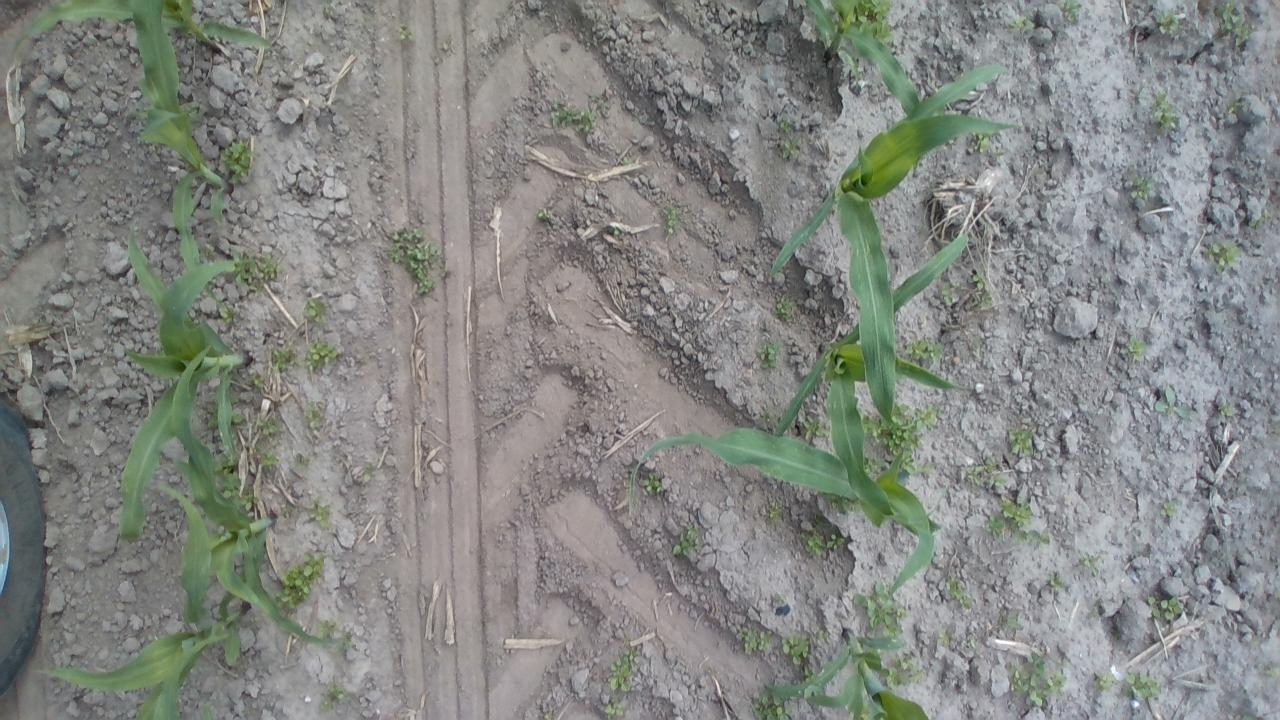Maize: (771, 69, 1014, 433), (774, 233, 970, 521), (629, 423, 942, 598), (168, 345, 340, 649), (48, 485, 248, 720), (116, 228, 250, 544), (130, 0, 238, 304), (760, 623, 929, 720), (26, 0, 275, 57), (799, 0, 921, 110)
Weeds: (880, 399, 939, 475), (387, 224, 448, 295), (983, 494, 1050, 544), (853, 577, 907, 639), (276, 552, 326, 616), (1011, 652, 1064, 706), (844, 0, 894, 44), (233, 252, 282, 296), (781, 632, 817, 680), (221, 139, 256, 184), (550, 100, 596, 134), (216, 455, 243, 510), (608, 648, 641, 692), (886, 654, 924, 690), (1146, 88, 1175, 135), (802, 530, 848, 558), (1207, 238, 1243, 273), (1154, 386, 1192, 419), (1222, 0, 1250, 42), (966, 462, 1008, 490), (905, 335, 946, 363), (739, 625, 776, 656), (1146, 592, 1184, 621), (753, 692, 792, 720), (304, 341, 341, 370), (824, 490, 864, 514), (318, 678, 348, 710), (946, 576, 974, 610), (800, 413, 830, 443), (972, 271, 994, 310), (1126, 673, 1160, 698), (308, 494, 333, 528), (1009, 428, 1034, 458), (250, 445, 280, 470), (858, 407, 882, 438), (1120, 334, 1146, 362), (672, 527, 696, 556), (774, 294, 798, 322), (756, 342, 780, 370), (861, 456, 890, 478), (304, 298, 329, 323), (1156, 11, 1180, 36), (1006, 14, 1035, 34), (302, 401, 322, 430), (1130, 175, 1152, 200), (602, 695, 624, 720), (1248, 210, 1272, 232), (184, 100, 208, 122), (258, 415, 284, 435), (642, 473, 664, 495), (942, 281, 961, 306), (664, 206, 681, 233), (972, 132, 992, 154), (782, 137, 801, 160), (222, 304, 241, 326), (1098, 672, 1117, 693), (318, 618, 336, 640), (766, 502, 784, 522), (758, 408, 776, 428), (274, 349, 292, 369), (336, 634, 354, 653), (248, 372, 266, 391), (397, 22, 415, 40), (1047, 574, 1066, 591), (1160, 501, 1180, 517), (849, 56, 864, 77), (242, 493, 258, 512), (1065, 0, 1082, 17), (1079, 552, 1094, 568), (1006, 614, 1020, 631), (936, 626, 949, 644), (230, 413, 248, 426), (779, 118, 794, 133), (1227, 98, 1242, 113), (362, 464, 376, 480), (200, 245, 217, 258), (206, 412, 218, 430), (537, 208, 553, 221), (1220, 404, 1234, 418), (281, 504, 294, 518), (130, 224, 141, 240), (1262, 668, 1278, 677), (608, 226, 624, 235), (815, 630, 829, 640), (294, 455, 304, 469), (966, 638, 976, 650), (230, 396, 239, 405), (994, 154, 1004, 162), (622, 160, 632, 166)
